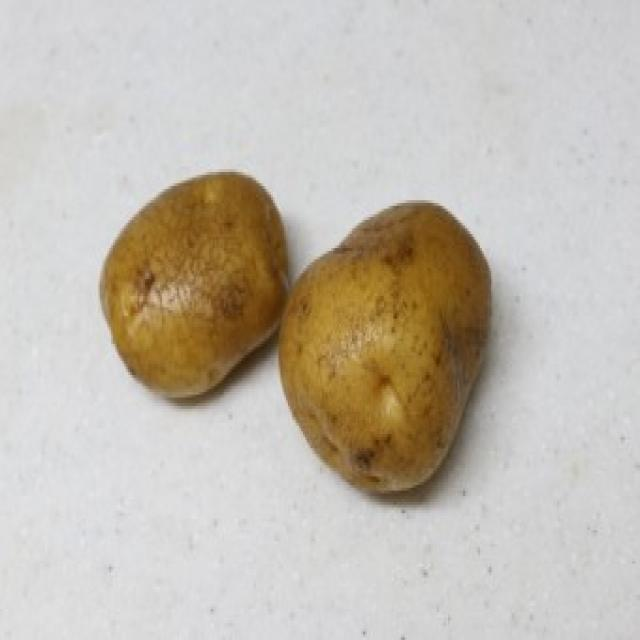potato: (274, 191, 497, 499), (94, 166, 300, 404)
